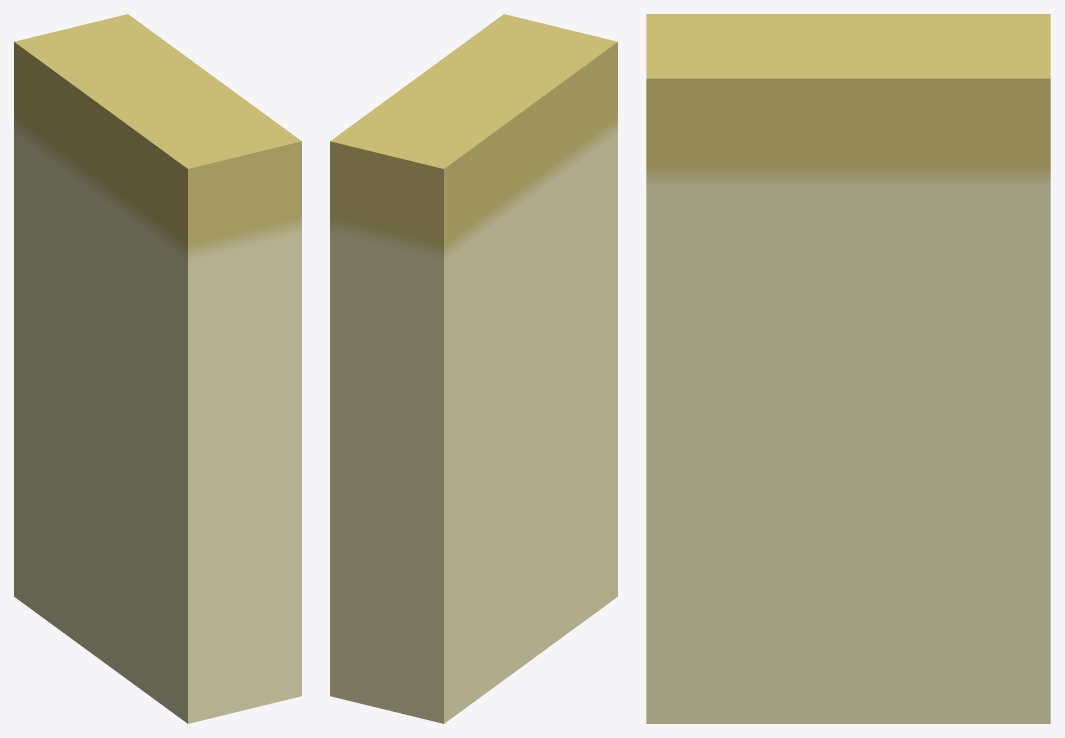
Rendered from Itr_Obj_Book2_02.FBX.
3 views of the same model, side by side, from view 1: azimuth 30°, elevation 25°; view 2: azimuth 150°, elevation 25°; view 3: azimuth 270°, elevation 25° (orthographic). The views are drawn at different scales.
Visible parts, largest first — view 1: Itr_Obj_Book2_02; view 2: Itr_Obj_Book2_02; view 3: Itr_Obj_Book2_02.
Boxes of the visible parts, x1,y1,x2,y2 form: Itr_Obj_Book2_02: (14, 14, 301, 723); Itr_Obj_Book2_02: (330, 14, 617, 723); Itr_Obj_Book2_02: (646, 14, 1050, 723).
Size of the model in its own units: 2.14 by 9.98 by 5.67.
